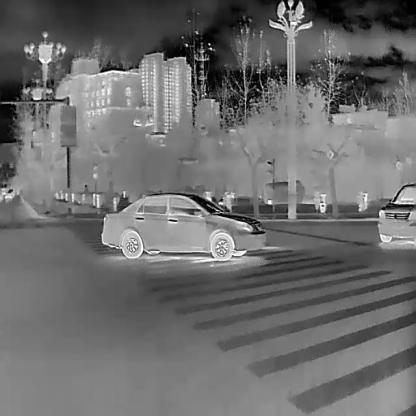car: (100, 191, 265, 261), (376, 179, 416, 243)
